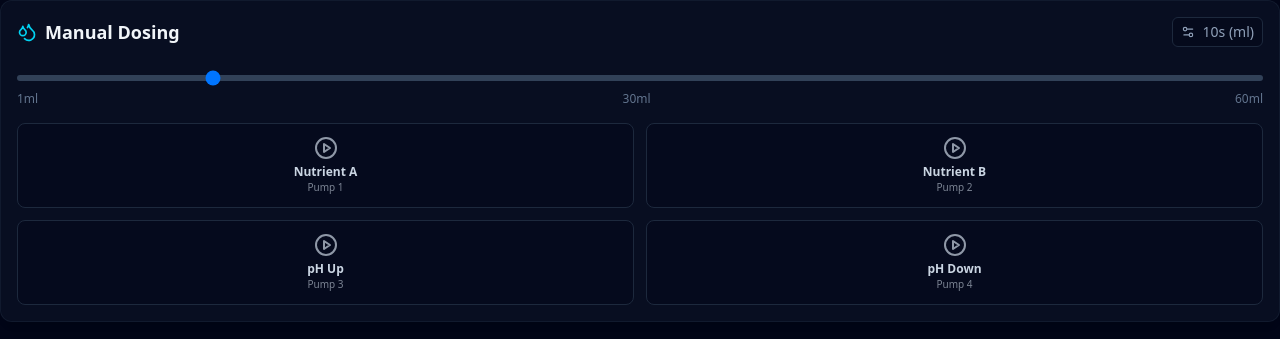
Test: QuickPumpWidget › updates duration state via slider
Set the slider to "25" at (525, 78), box [17,75,1263,81]
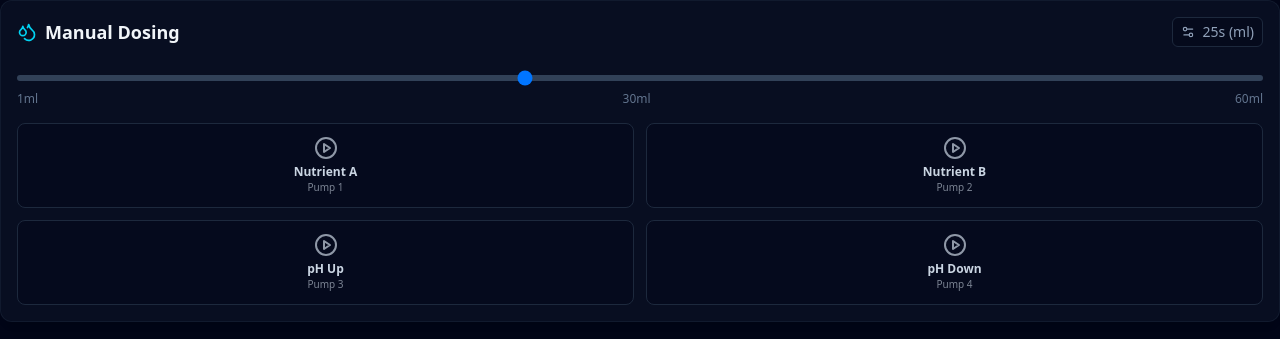
Now the text "25s (ml)" is shown, box [1172,17,1263,47]
